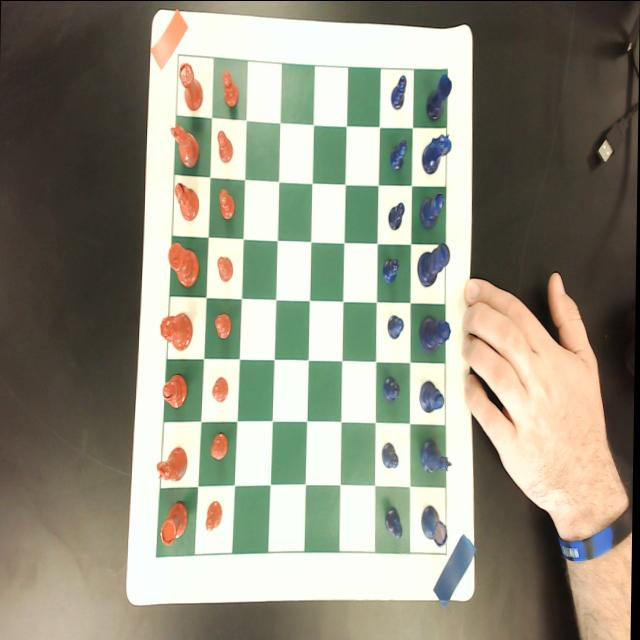B: (419, 378, 447, 412), (420, 192, 444, 228)
K: (418, 242, 450, 288)
N: (420, 132, 453, 174), (420, 436, 455, 474)
P: (384, 504, 405, 538), (389, 74, 406, 110), (389, 139, 407, 171), (383, 373, 401, 404), (382, 255, 400, 285), (382, 441, 400, 469), (387, 202, 405, 230), (388, 314, 404, 338)
Q: (418, 313, 451, 353)
R: (421, 501, 450, 548), (425, 73, 452, 121)
b: (173, 181, 200, 222), (162, 373, 188, 410)
k: (168, 241, 199, 288)
n: (167, 123, 201, 169), (157, 446, 188, 480)
p: (202, 496, 227, 536), (218, 71, 243, 109), (216, 186, 238, 226), (211, 373, 233, 409), (214, 128, 235, 164), (211, 434, 232, 462), (216, 255, 237, 282), (215, 310, 231, 342)
q: (159, 312, 193, 350)
r: (160, 499, 189, 546), (178, 60, 202, 110)
